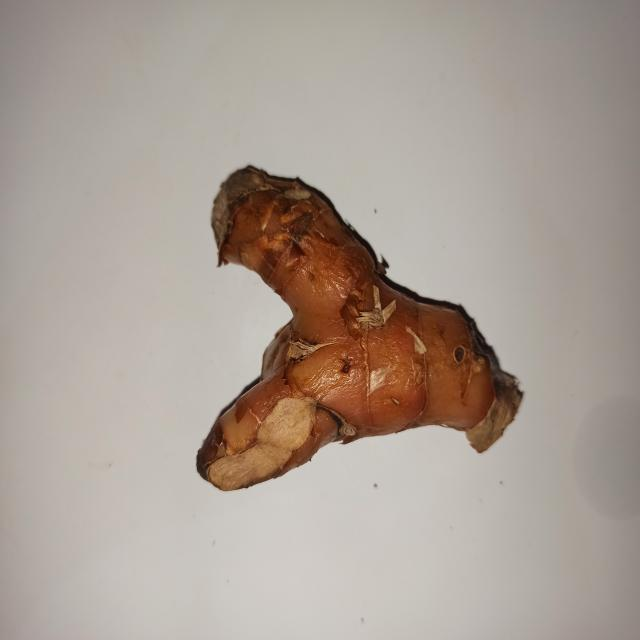ginger: (212, 180, 479, 454)
